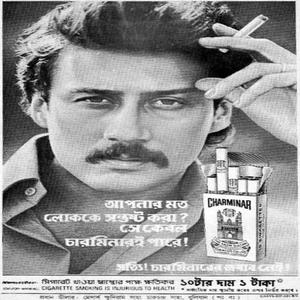cigarette: (211, 14, 268, 56)
